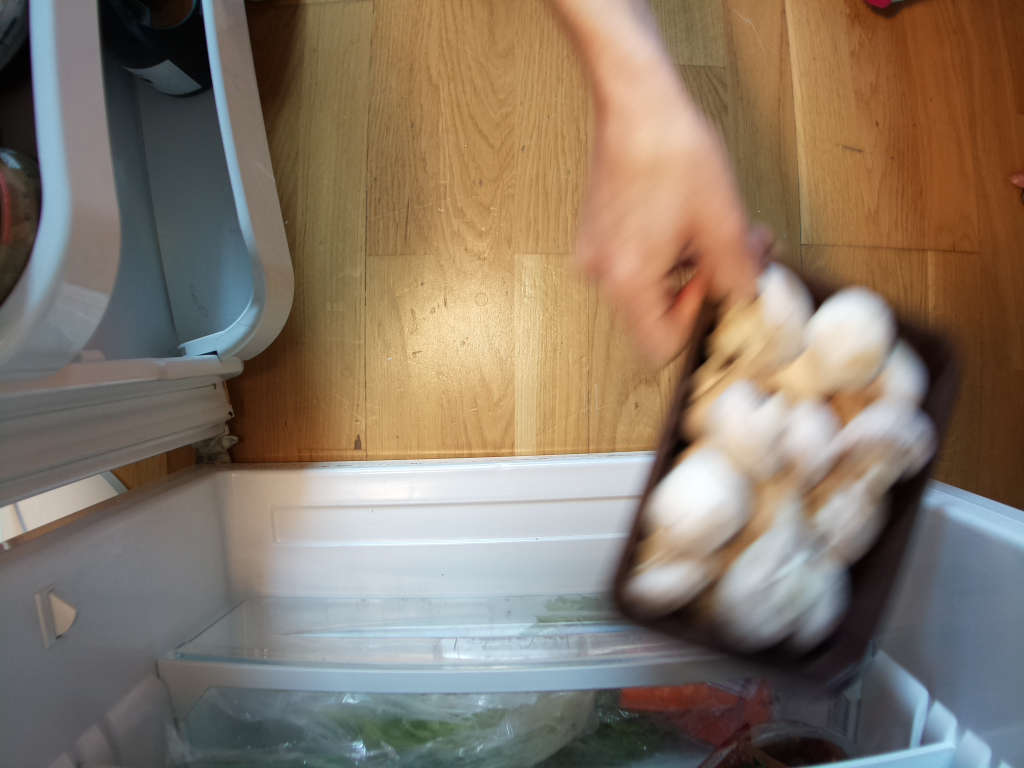mushrooms: (583, 239, 962, 700)
